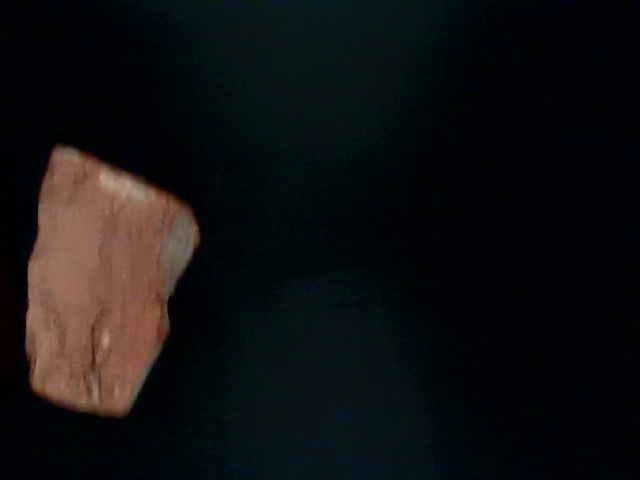KHSLJ: (14, 121, 340, 431)
